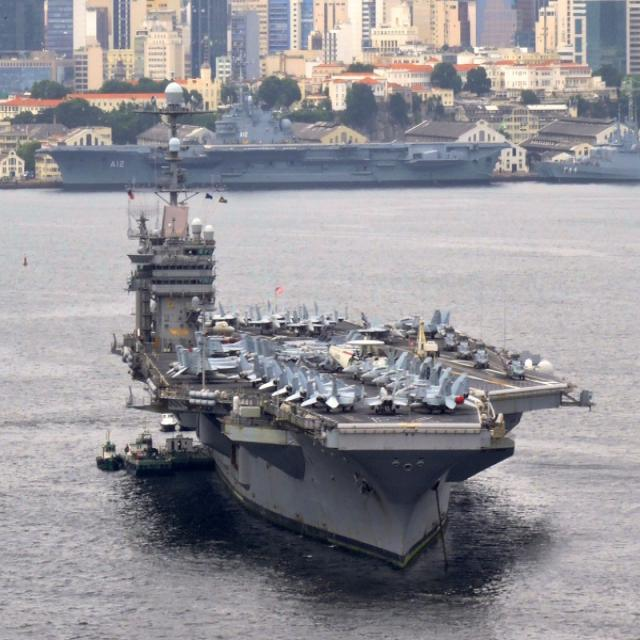Portanaves: (107, 105, 574, 582), (44, 74, 523, 197)
